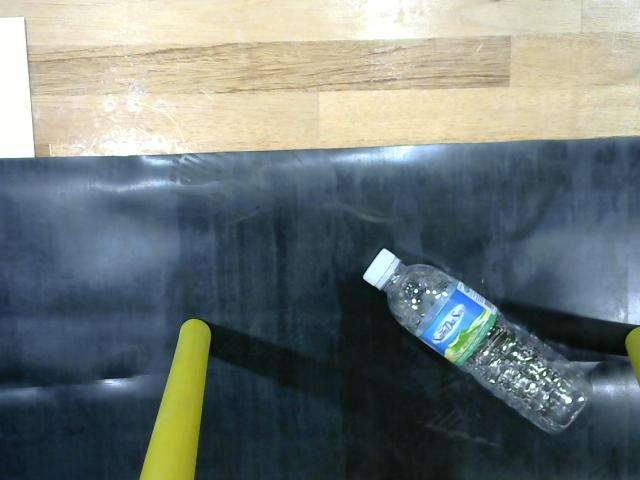bottle: (354, 243, 600, 444)
